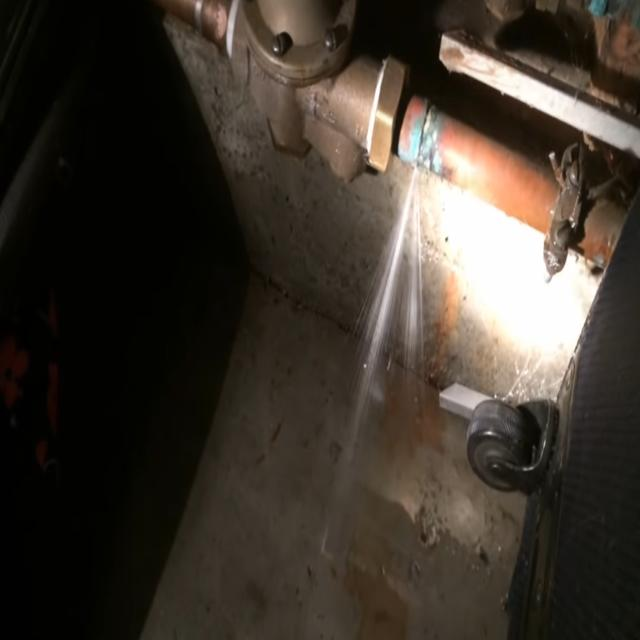leak: (334, 167, 424, 513)
